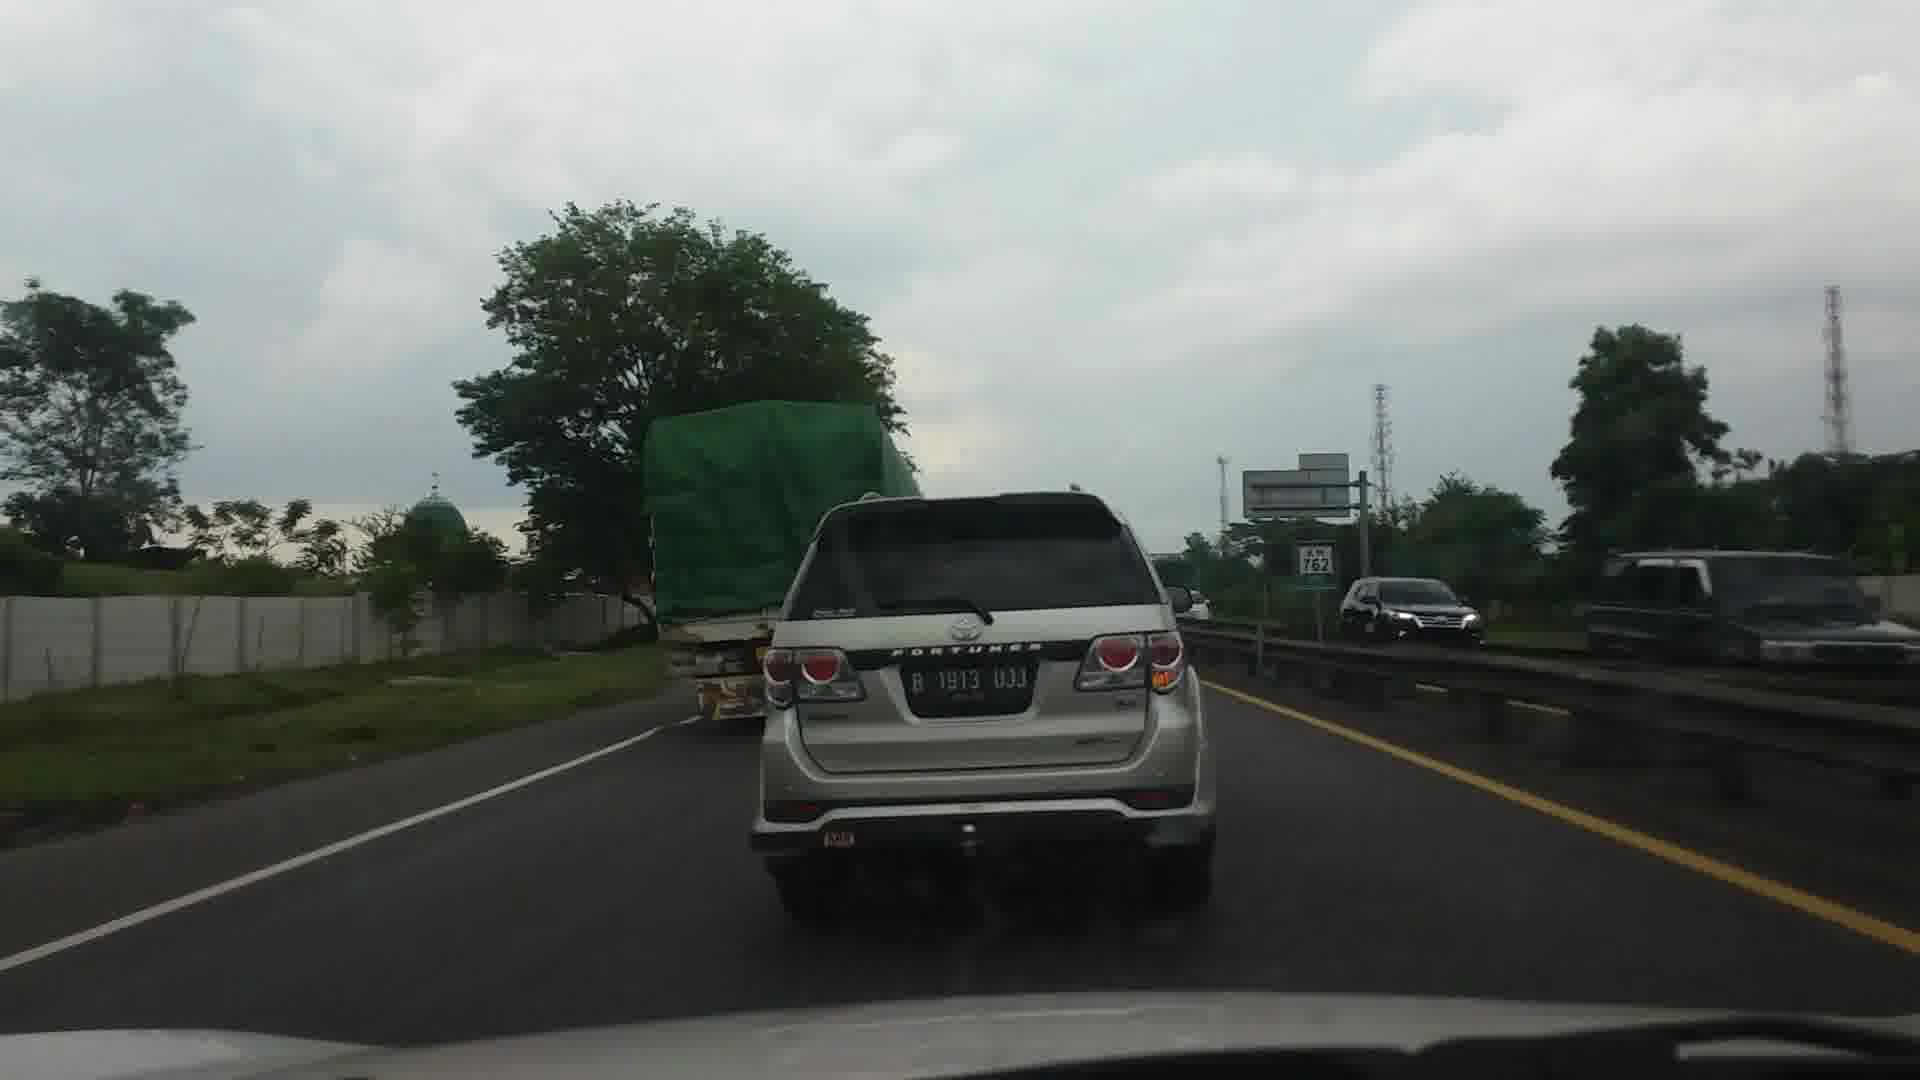plate_positive: (907, 665, 1033, 703)
